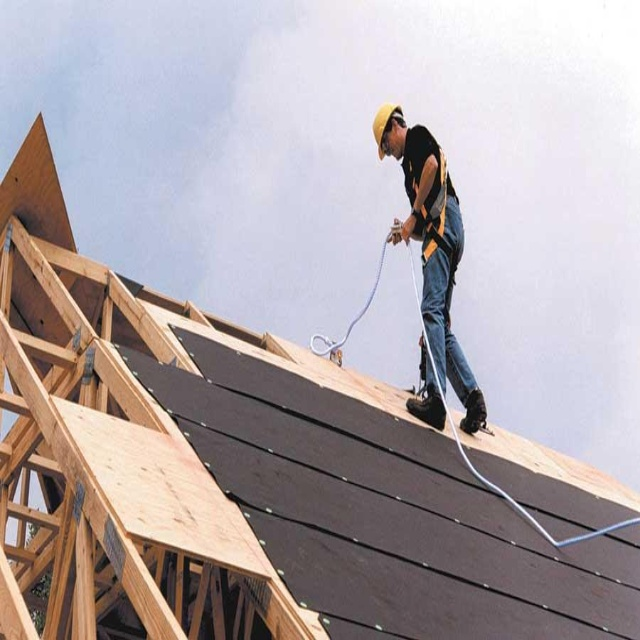Arnes_seguridad: (396, 126, 469, 278)
